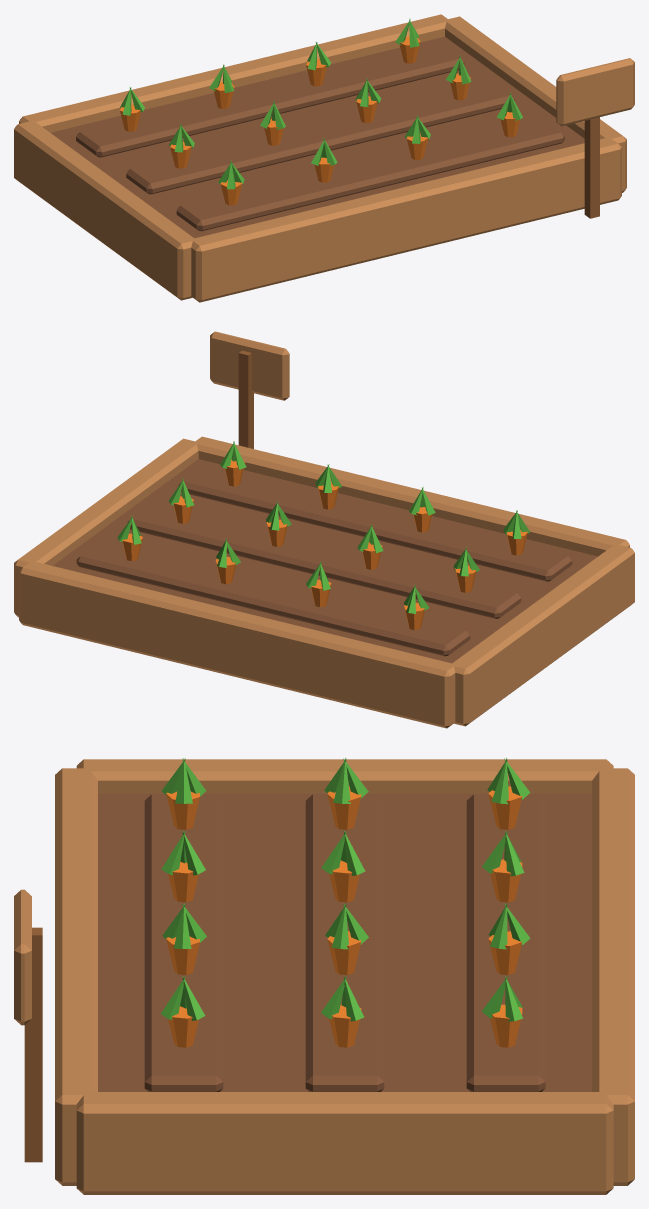
Rendered from station_carrot_bed.glb.
3 renders of one model, top to bottom at view 1: azimuth 30°, elevation 25°; view 2: azimuth 150°, elevation 25°; view 3: azimuth 270°, elevation 25°, orthographic. The views are drawn at different scales.
Visible parts, largest first — view 1: station_carrot_bed, station_carrot_bed_plants; view 2: station_carrot_bed, station_carrot_bed_plants; view 3: station_carrot_bed, station_carrot_bed_plants.
Boxes of the visible parts, left/top/right/bottom form: station_carrot_bed: left=14, top=14, right=634, bottom=302; station_carrot_bed_plants: left=119, top=18, right=522, bottom=205; station_carrot_bed: left=14, top=331, right=634, bottom=728; station_carrot_bed_plants: left=117, top=441, right=530, bottom=630; station_carrot_bed: left=14, top=759, right=634, bottom=1194; station_carrot_bed_plants: left=161, top=757, right=530, bottom=1047.
Bounding box in the file's own units: 2.32 × 0.745 × 1.73.
